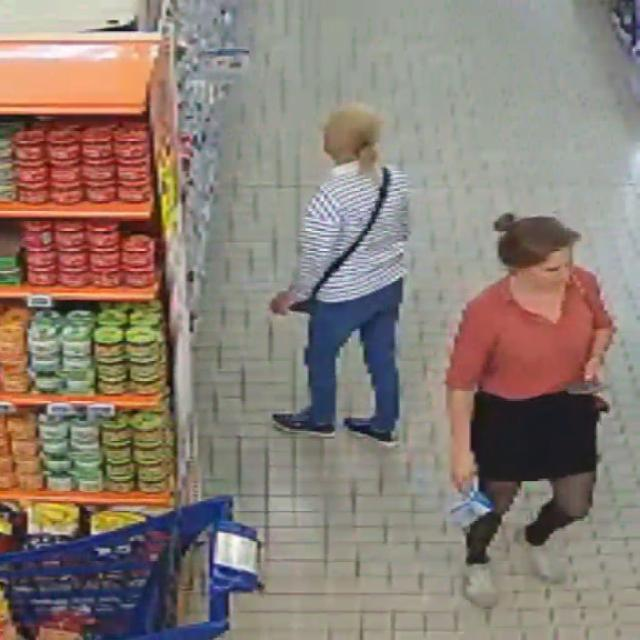article: (448, 487, 493, 530)
bags: (290, 167, 390, 314)
hands: (450, 447, 476, 491), (270, 290, 295, 315), (584, 357, 604, 382)
person: (447, 215, 613, 607), (271, 104, 409, 445)
